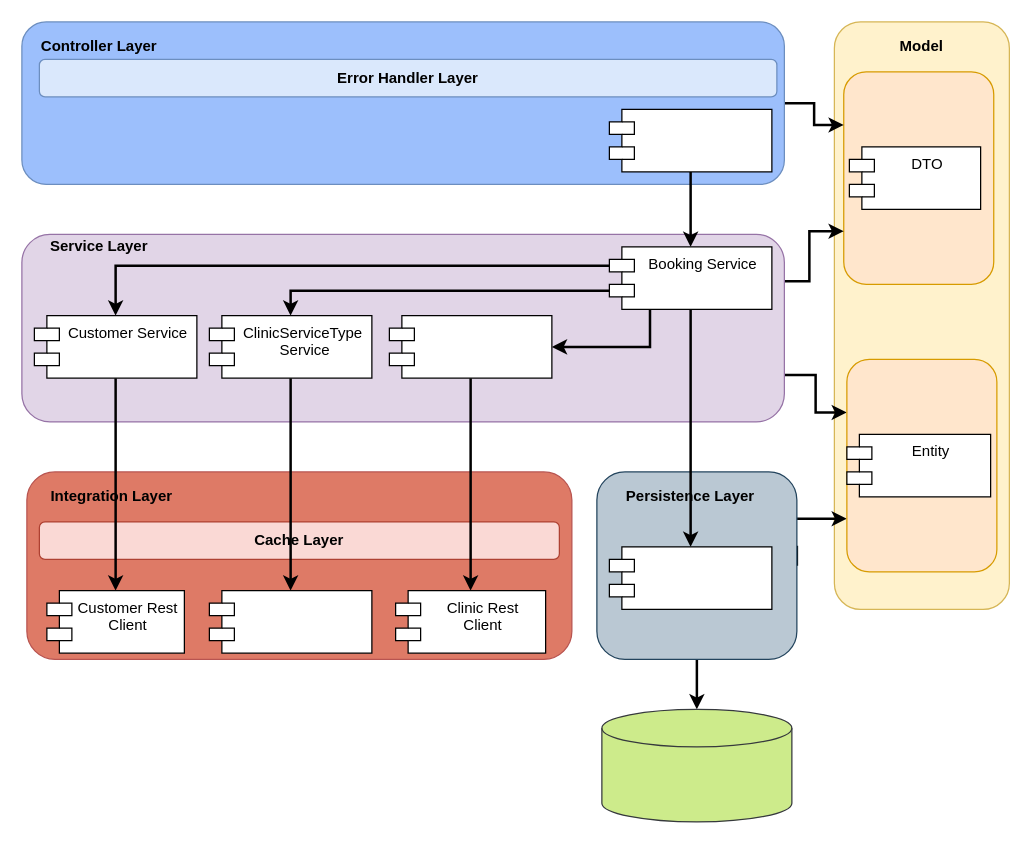
The diagram is 1031 pixels wide and 844 high, and some of its shapes have lost their labels. The centre of each missing label's shape, as x and y in pixels:
"Booking Controller" goes at (690,140).
"Booking Repository" goes at (690,577).
"Clinic Service" goes at (470,346).
"ClinicServiceType Client" goes at (290,621).
